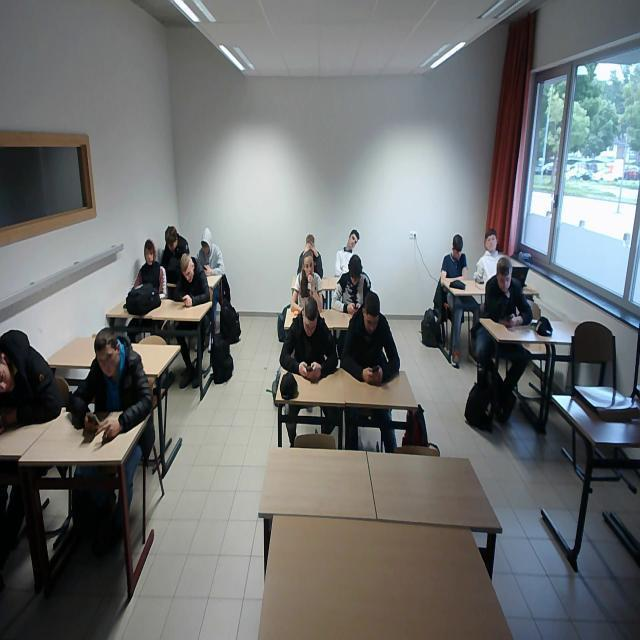Looking away: (448, 235, 468, 260)
Looking forward: (136, 237, 160, 274), (298, 256, 322, 288), (486, 228, 498, 254)
Phone use: (78, 315, 150, 440), (343, 296, 402, 388), (284, 302, 338, 379), (484, 260, 538, 330), (335, 256, 371, 318), (192, 226, 232, 276), (170, 256, 206, 310), (154, 226, 188, 278)
